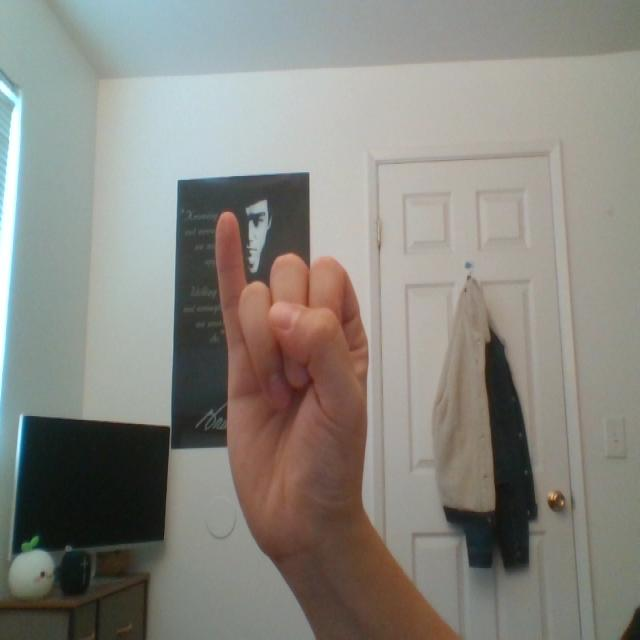I: (189, 203, 443, 578)
